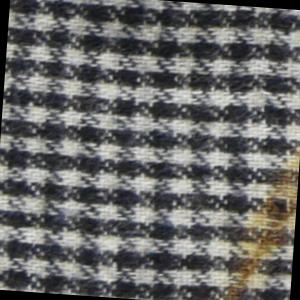Damage: (247, 169, 300, 253)
Oil Stain: (210, 143, 300, 300)
